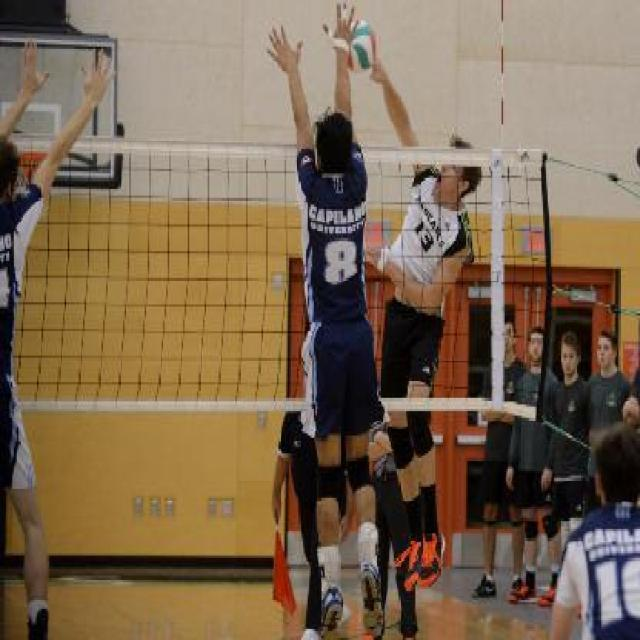volleyball: (346, 19, 379, 74)
